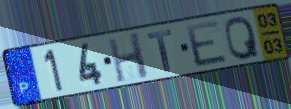1: (42, 48, 65, 93)
4: (78, 41, 105, 87)
E: (183, 18, 230, 69)
H: (106, 30, 152, 84)
Q: (224, 14, 262, 62)
T: (145, 28, 174, 74)
